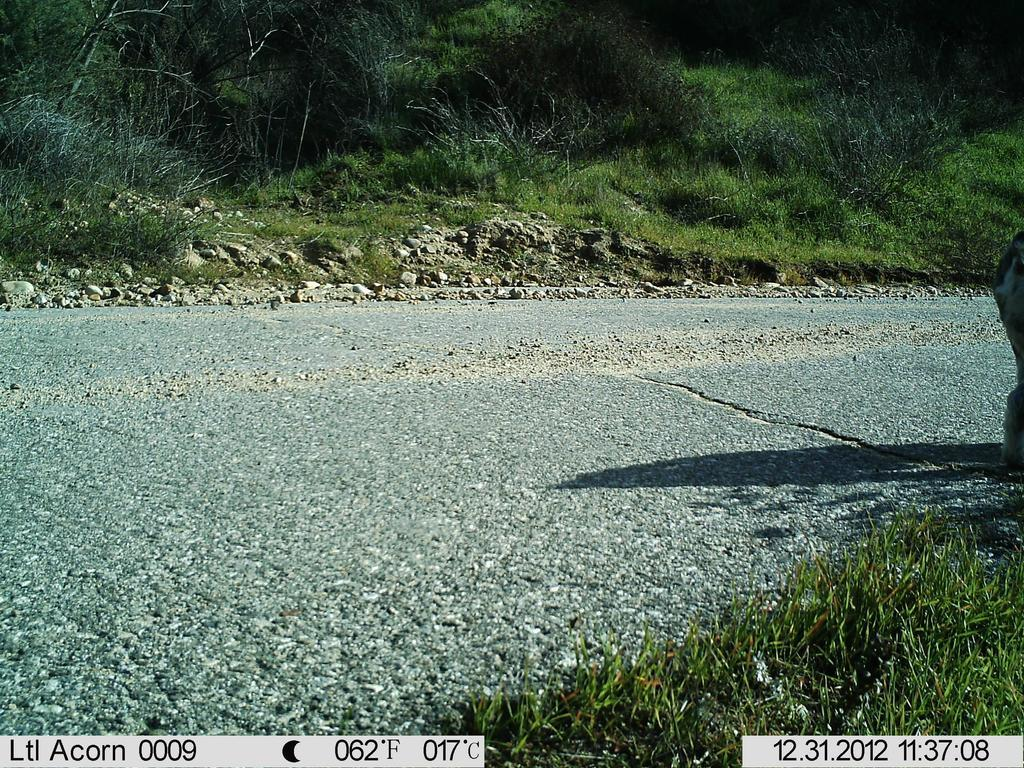dog: (986, 227, 1023, 482)
